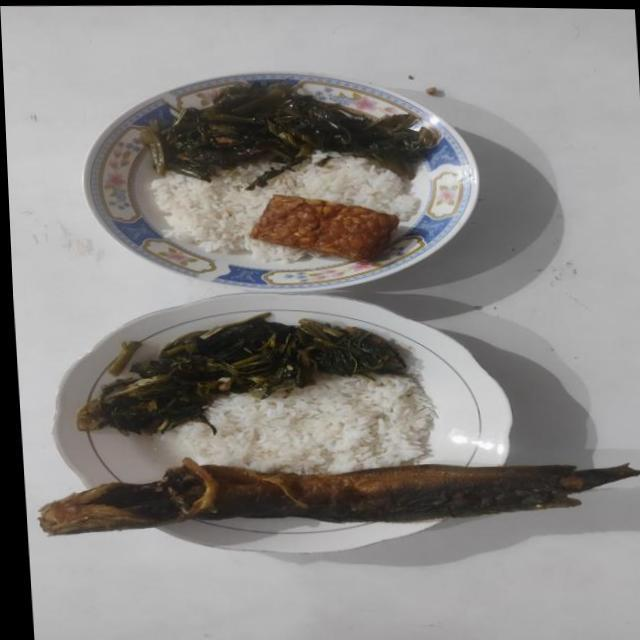nasi_putih: (151, 152, 417, 263), (172, 375, 436, 474)
tempe_goreng: (248, 195, 398, 261)
tumis_kangkung: (77, 313, 406, 435), (139, 80, 440, 190)
